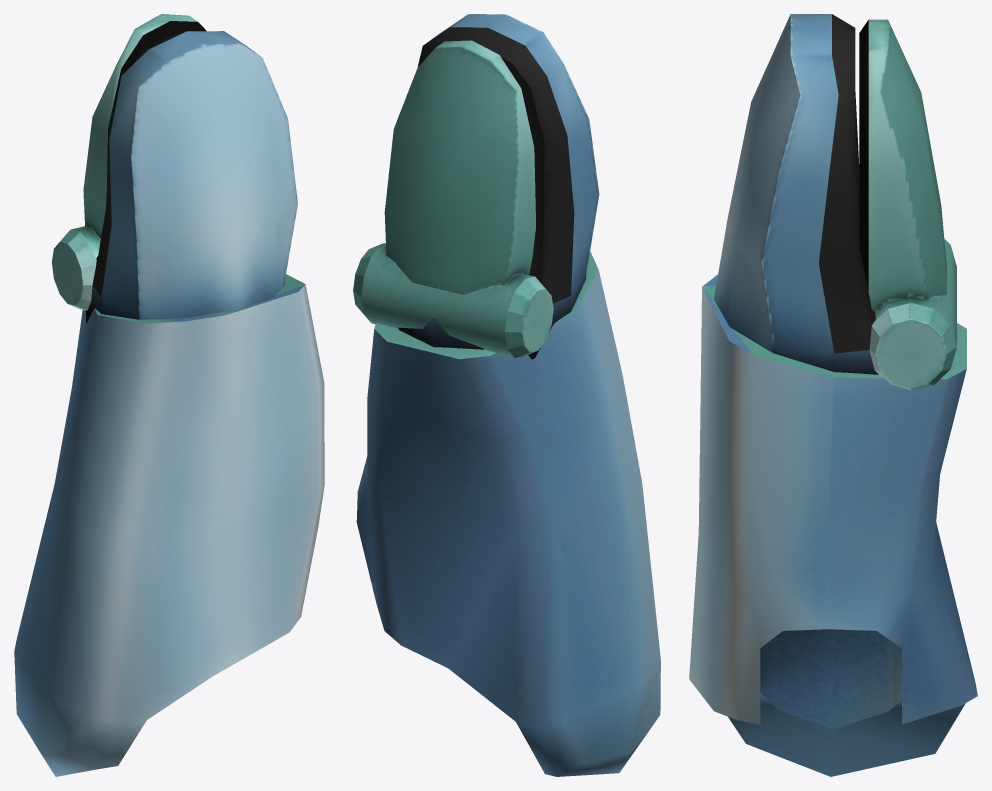
The model's file is Forearm_Left.obj.
3 views of the same model, side by side, from view 1: azimuth 30°, elevation 25°; view 2: azimuth 150°, elevation 25°; view 3: azimuth 270°, elevation 25° (orthographic). The views are drawn at different scales.
Visible parts, largest first — view 1: Forearm_Left; view 2: Forearm_Left; view 3: Forearm_Left.
Part boxes in pixels (<box>): Forearm_Left: <box>14,14,324,776</box>; Forearm_Left: <box>353,14,660,776</box>; Forearm_Left: <box>689,14,977,776</box>.
Bounding box in the file's own units: 0.1136 × 0.2902 × 0.0932.
Materials: 1 (1 with a texture image).
